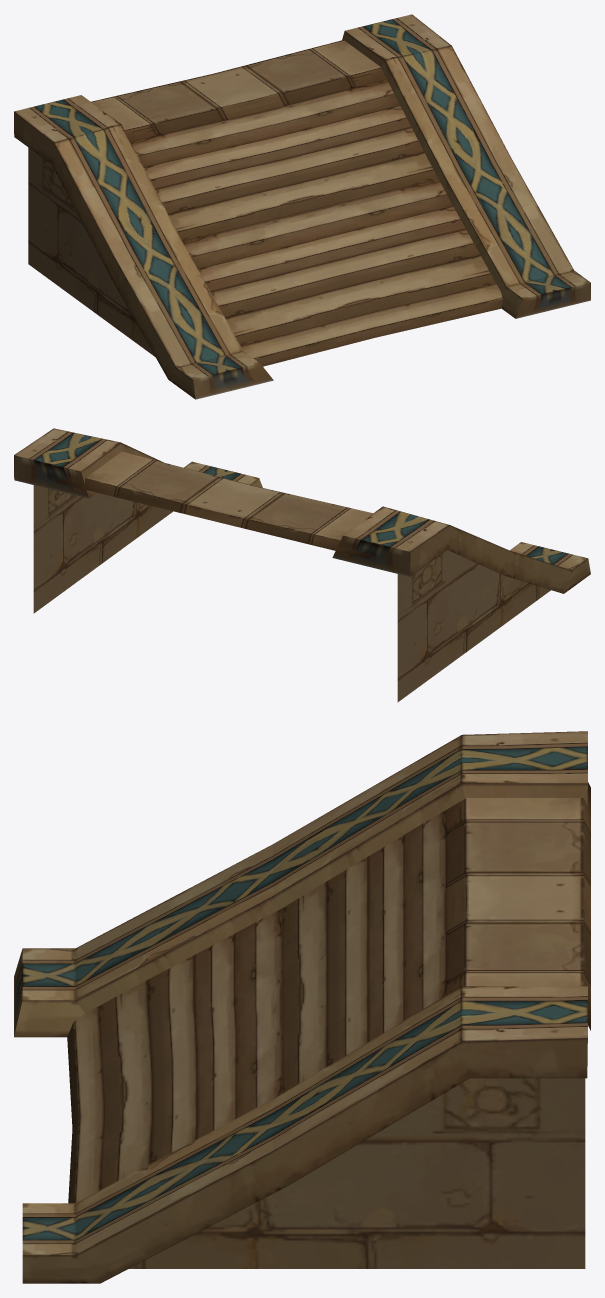
The model's file is 2_DG_TaiJie_01.FBX.
3 views of the same model, one above another, from view 1: azimuth 30°, elevation 25°; view 2: azimuth 150°, elevation 25°; view 3: azimuth 270°, elevation 25° (orthographic). The views are drawn at different scales.
Visible parts, largest first — view 1: 2_DG_TaiJie_01; view 2: 2_DG_TaiJie_01; view 3: 2_DG_TaiJie_01.
Boxes of the visible parts, x1,y1,x2,y2 form: 2_DG_TaiJie_01: (14,14,590,399); 2_DG_TaiJie_01: (14,428,590,702); 2_DG_TaiJie_01: (14,731,590,1283).
Bounding box in the file's own units: 874 × 326 × 694.
1 material, 1 textured.
